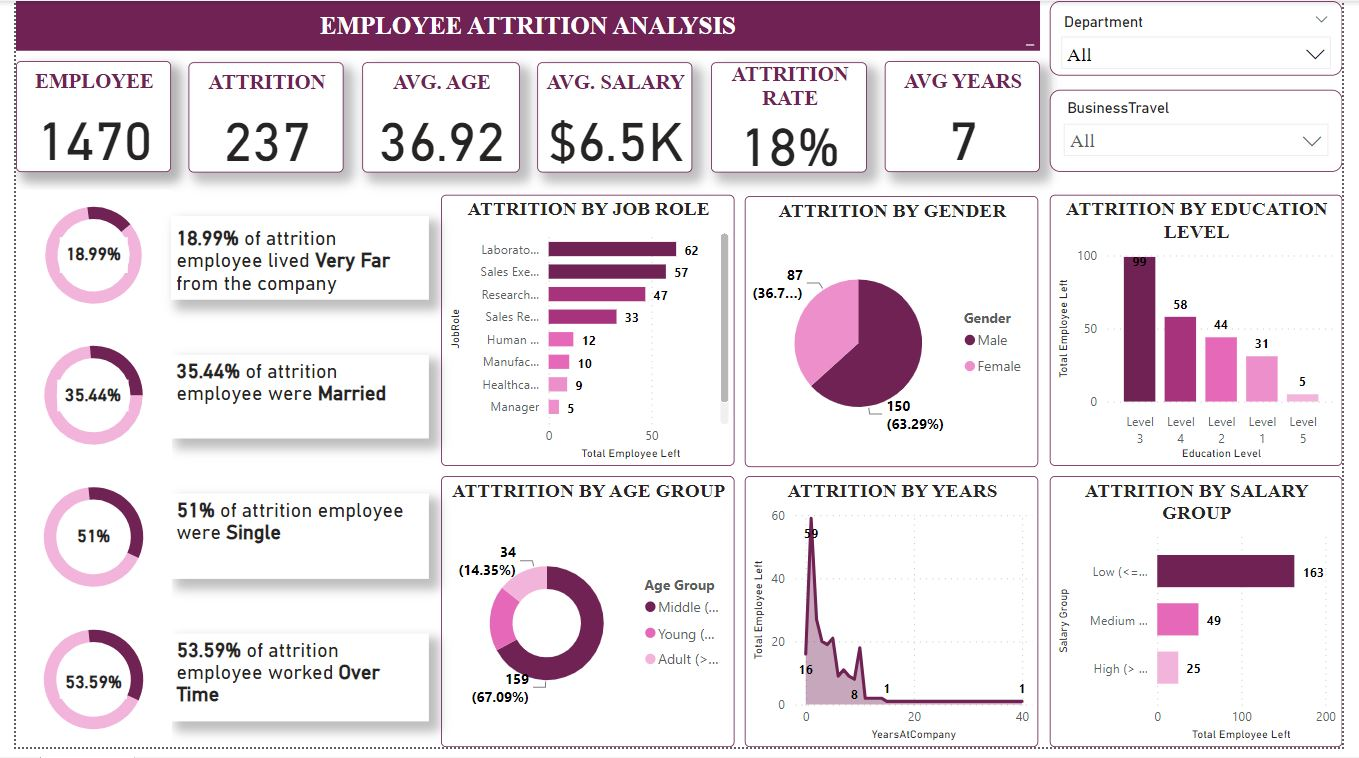

The dashboard page shown, as its layout file describes it:
{"tool":"powerbi","page":{"name":"Page 1","canvas":[1280,720],"ordinal":0},"visuals":[{"type":"card","title":" EMPLOYEE","fields":{"Values":["Sum(HR-Employee-Attrition.EmployeeCount)"]},"box":[0,58.3,149.5,107.3],"z":0},{"type":"card","title":"ATTRITION","fields":{"Values":["HR-Employee-Attrition.Total Employee Left"]},"box":[166.6,58.9,149.5,106.1],"z":1000},{"type":"card","title":"AVG. AGE","fields":{"Values":["Avg(HR-Employee-Attrition.Age)"]},"box":[333.6,58.9,152,106.1],"z":2000},{"type":"card","title":"ATTRITION RATE","fields":{"Values":["HR-Employee-Attrition.Attrition Rate"]},"box":[670,58.9,150.8,106.1],"z":3000},{"type":"card","title":"AVG. SALARY","fields":{"Values":["Avg(HR-Employee-Attrition.MonthlyIncome)"]},"box":[503,58.9,149.5,106.1],"z":4000},{"type":"card","title":"AVG YEARS ","fields":{"Values":["Avg(HR-Employee-Attrition.YearsAtCompany)"]},"box":[838.2,58.3,149.5,107.3],"z":5000},{"type":"pieChart","title":"ATTRITION BY GENDER","fields":{"Y":["HR-Employee-Attrition.Total Employee Left"],"Category":["HR-Employee-Attrition.Gender"]},"box":[703.1,188.1,283.4,261.7],"z":6000},{"type":"barChart","title":"ATTRITION BY JOB ROLE","fields":{"Y":["HR-Employee-Attrition.Total Employee Left"],"Category":["HR-Employee-Attrition.JobRole"]},"box":[410.1,186.9,283.4,261.7],"z":7000},{"type":"columnChart","title":"ATTRITION BY EDUCATION LEVEL","fields":{"Y":["HR-Employee-Attrition.Total Employee Left"],"Category":["HR-Employee-Attrition.Education Level"]},"box":[997.4,186.9,282.2,261.7],"z":8000},{"type":"donutChart","title":"ATTTRITION BY AGE GROUP","fields":{"Y":["HR-Employee-Attrition.Total Employee Left"],"Category":["HR-Employee-Attrition.Age Group"]},"box":[410.1,458.3,283.4,261.7],"z":9000},{"type":"areaChart","title":"ATTRITION BY YEARS ","fields":{"Category":["HR-Employee-Attrition.YearsAtCompany"],"Y":["HR-Employee-Attrition.Total Employee Left"]},"box":[703.1,458.3,283.4,261.7],"z":10000},{"type":"barChart","title":"ATTRITION BY SALARY GROUP","fields":{"Y":["HR-Employee-Attrition.Total Employee Left"],"Category":["HR-Employee-Attrition.Salary Group"]},"box":[997.4,458.3,282.2,261.7],"z":11000},{"type":"slicer","fields":{"Values":["HR-Employee-Attrition.Department"]},"box":[997.4,0,282.2,72.4],"z":12000},{"type":"slicer","fields":{"Values":["HR-Employee-Attrition.BusinessTravel"]},"box":[997.4,85.6,282.2,79.6],"z":13000},{"type":"textbox","title":" EMPLOYEE ATTRITION ANALYSIS","box":[0,0,987.7,48.2],"z":14000},{"type":"donutChart","fields":{"Y":["HR-Employee-Attrition.Percentage T.A.D.F.H","HR-Employee-Attrition.Percentage Attrition Distance From Home"]},"box":[0,182.5,150,126.2],"z":15000},{"type":"textbox","box":[150,208,249,81],"z":16000},{"type":"card","fields":{"Values":["HR-Employee-Attrition.Percentage Attrition Distance From Home"]},"box":[42.4,228.5,65.3,34.1],"z":17000},{"type":"textbox","box":[150,341.5,249,81],"z":18000},{"type":"textbox","box":[150,475,248.8,82.5],"z":19000},{"type":"donutChart","fields":{"Y":["HR-Employee-Attrition.Percentage Attrition","HR-Employee-Attrition.Percentage attrition married employee"]},"box":[0,316.2,150,128.8],"z":20000},{"type":"textbox","box":[150,610,248.8,85],"z":21000},{"type":"card","fields":{"Values":["HR-Employee-Attrition.Percentage attrition married employee"]},"box":[39.8,365.4,68.7,30.2],"z":22000},{"type":"donutChart","fields":{"Y":["HR-Employee-Attrition.Percentage Attrition","HR-Employee-Attrition.Percentage Total Attrition Single"]},"box":[0,452.5,150,130],"z":23000},{"type":"donutChart","fields":{"Y":["HR-Employee-Attrition.Percentage Attrition","HR-Employee-Attrition.Percentage Total Attrition Single"]},"box":[0,590,150,130],"z":24000},{"type":"card","fields":{"Values":["HR-Employee-Attrition.Percentage Total Attrition Single"]},"box":[42.2,501.7,65.1,30.2],"z":25000},{"type":"card","fields":{"Values":["HR-Employee-Attrition.Percentage Attrition Overtime"]},"box":[42.2,642.8,65.1,30.2],"z":26000}]}

Visuals, with their boxes in screenshot pixels (x1, y1, x2, y2), scaled from the page's 1280x720 canvas onto the 1359x758 screenshot:
" EMPLOYEE" card: box(0, 61, 159, 174)
"ATTRITION" card: box(177, 62, 336, 174)
"AVG. AGE" card: box(354, 62, 516, 174)
"ATTRITION RATE" card: box(711, 62, 871, 174)
"AVG. SALARY" card: box(534, 62, 693, 174)
"AVG YEARS " card: box(890, 61, 1049, 174)
"ATTRITION BY GENDER" pieChart: box(746, 198, 1047, 474)
"ATTRITION BY JOB ROLE" barChart: box(435, 197, 736, 472)
"ATTRITION BY EDUCATION LEVEL" columnChart: box(1059, 197, 1358, 472)
"ATTTRITION BY AGE GROUP" donutChart: box(435, 482, 736, 757)
"ATTRITION BY YEARS " areaChart: box(746, 482, 1047, 757)
"ATTRITION BY SALARY GROUP" barChart: box(1059, 482, 1358, 757)
slicer - HR-Employee-Attrition.Department: box(1059, 0, 1358, 76)
slicer - HR-Employee-Attrition.BusinessTravel: box(1059, 90, 1358, 174)
" EMPLOYEE ATTRITION ANALYSIS" textbox: box(0, 0, 1049, 51)
donutChart - HR-Employee-Attrition.Percentage T.A.D.F.H x HR-Employee-Attrition.Percentage Attrition Distance From Home: box(0, 192, 159, 325)
textbox: box(159, 219, 424, 304)
card - HR-Employee-Attrition.Percentage Attrition Distance From Home: box(45, 241, 114, 276)
textbox: box(159, 360, 424, 445)
textbox: box(159, 500, 423, 587)
donutChart - HR-Employee-Attrition.Percentage Attrition x HR-Employee-Attrition.Percentage attrition married employee: box(0, 333, 159, 468)
textbox: box(159, 642, 423, 732)
card - HR-Employee-Attrition.Percentage attrition married employee: box(42, 385, 115, 416)
donutChart - HR-Employee-Attrition.Percentage Attrition x HR-Employee-Attrition.Percentage Total Attrition Single: box(0, 476, 159, 613)
donutChart - HR-Employee-Attrition.Percentage Attrition x HR-Employee-Attrition.Percentage Total Attrition Single: box(0, 621, 159, 757)
card - HR-Employee-Attrition.Percentage Total Attrition Single: box(45, 528, 114, 560)
card - HR-Employee-Attrition.Percentage Attrition Overtime: box(45, 677, 114, 709)
